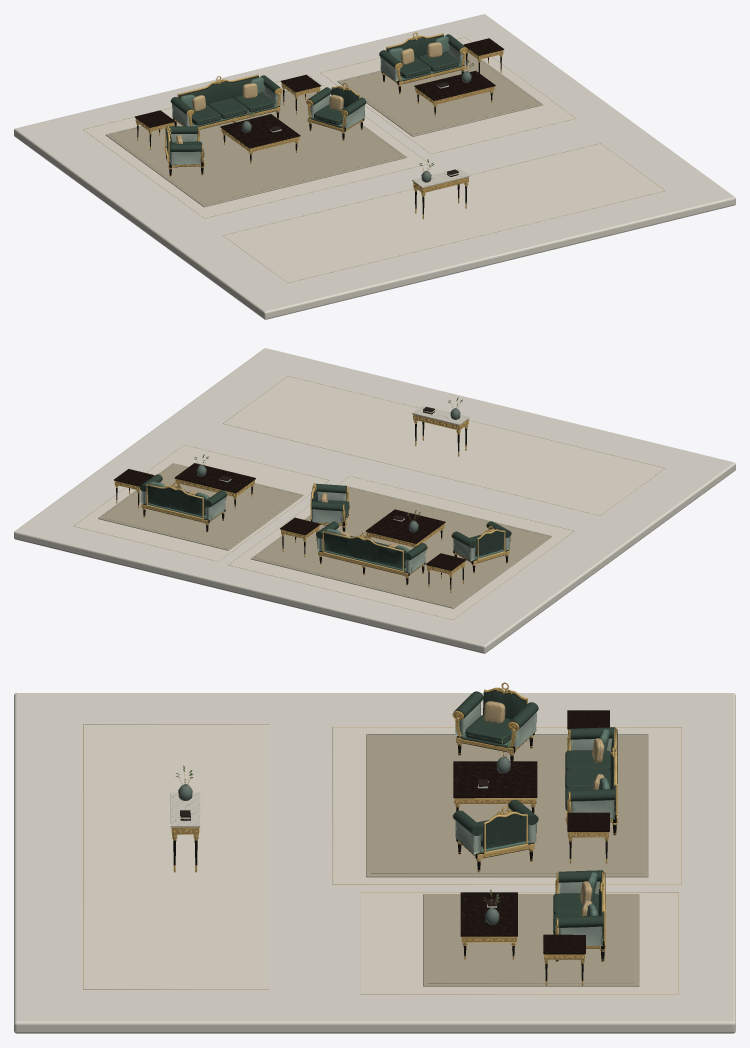
The model's file is trianon-exhibition.glb.
3 renders of one model, top to bottom at view 1: azimuth 30°, elevation 25°; view 2: azimuth 150°, elevation 25°; view 3: azimuth 270°, elevation 25°, orthographic. The views are drawn at different scales.
Parts seen in each view (by area): view 1: Open exhibition web batch, Trianon three-seat sofa | 50472.0 | salon-1 web batch, Trianon two-seat sofa | 50473.0 | lounge-7 web batch, Trianon armchair | 50474.0 | salon-3 web batch, Trianon square Emperor coffee table | salon-4 web batch, Trianon armchair | 50474.0 | salon-2 web batch, Trianon rectangular Emperor coffee table | lounge-8 web batc, Trianon Calacatta console | console-10 web batch, Trianon Emperor side table | lounge-9 web batch, Trianon Emperor side table | salon-6 web batch, Trianon Emperor side table | salon-5 web batch; view 2: Open exhibition web batch, Trianon three-seat sofa | 50472.0 | salon-1 web batch, Trianon two-seat sofa | 50473.0 | lounge-7 web batch, Trianon square Emperor coffee table | salon-4 web batch, Trianon armchair | 50474.0 | salon-2 web batch, Trianon armchair | 50474.0 | salon-3 web batch, Trianon rectangular Emperor coffee table | lounge-8 web batc, Trianon Calacatta console | console-10 web batch, Trianon Emperor side table | salon-5 web batch, Trianon Emperor side table | salon-6 web batch, Trianon Emperor side table | lounge-9 web batch; view 3: Open exhibition web batch, Trianon three-seat sofa | 50472.0 | salon-1 web batch, Trianon armchair | 50474.0 | salon-2 web batch, Trianon two-seat sofa | 50473.0 | lounge-7 web batch, Trianon armchair | 50474.0 | salon-3 web batch, Trianon square Emperor coffee table | salon-4 web batch, Trianon rectangular Emperor coffee table | lounge-8 web batc, Trianon Calacatta console | console-10 web batch, Trianon Emperor side table | salon-6 web batch, Trianon Emperor side table | lounge-9 web batch, Trianon Emperor side table | salon-5 web batch.
Boxes of the visible parts, <box> form: Open exhibition web batch: <box>14,14,735,319</box>; Trianon three-seat sofa | 50472.0 | salon-1 web batch: <box>170,74,282,129</box>; Trianon two-seat sofa | 50473.0 | lounge-7 web batch: <box>379,32,467,93</box>; Trianon armchair | 50474.0 | salon-3 web batch: <box>306,82,366,140</box>; Trianon square Emperor coffee table | salon-4 web batch: <box>220,114,300,163</box>; Trianon armchair | 50474.0 | salon-2 web batch: <box>164,125,204,176</box>; Trianon rectangular Emperor coffee table | lounge-8 web batc: <box>414,70,495,116</box>; Trianon Calacatta console | console-10 web batch: <box>412,168,469,219</box>; Trianon Emperor side table | lounge-9 web batch: <box>463,38,504,73</box>; Trianon Emperor side table | salon-6 web batch: <box>280,74,321,114</box>; Trianon Emperor side table | salon-5 web batch: <box>135,110,175,149</box>; Open exhibition web batch: <box>14,348,735,653</box>; Trianon three-seat sofa | 50472.0 | salon-1 web batch: <box>316,521,427,585</box>; Trianon two-seat sofa | 50473.0 | lounge-7 web batch: <box>139,474,227,532</box>; Trianon square Emperor coffee table | salon-4 web batch: <box>365,509,445,547</box>; Trianon armchair | 50474.0 | salon-2 web batch: <box>451,521,511,573</box>; Trianon armchair | 50474.0 | salon-3 web batch: <box>310,483,349,531</box>; Trianon rectangular Emperor coffee table | lounge-8 web batc: <box>174,463,255,508</box>; Trianon Calacatta console | console-10 web batch: <box>412,405,469,456</box>; Trianon Emperor side table | salon-5 web batch: <box>426,553,466,592</box>; Trianon Emperor side table | salon-6 web batch: <box>280,517,320,557</box>; Trianon Emperor side table | lounge-9 web batch: <box>114,469,154,508</box>; Open exhibition web batch: <box>14,693,735,1033</box>; Trianon three-seat sofa | 50472.0 | salon-1 web batch: <box>565,727,617,835</box>; Trianon armchair | 50474.0 | salon-2 web batch: <box>452,682,538,761</box>; Trianon two-seat sofa | 50473.0 | lounge-7 web batch: <box>553,870,605,961</box>; Trianon armchair | 50474.0 | salon-3 web batch: <box>452,799,538,872</box>; Trianon square Emperor coffee table | salon-4 web batch: <box>453,761,537,812</box>; Trianon rectangular Emperor coffee table | lounge-8 web batc: <box>460,892,517,959</box>; Trianon Calacatta console | console-10 web batch: <box>170,792,200,872</box>; Trianon Emperor side table | salon-6 web batch: <box>567,812,609,863</box>; Trianon Emperor side table | lounge-9 web batch: <box>543,934,585,985</box>; Trianon Emperor side table | salon-5 web batch: <box>567,710,609,735</box>.
Bounding box in the file's own units: 13 × 1.63 × 12.
18 materials, 3 textured.
